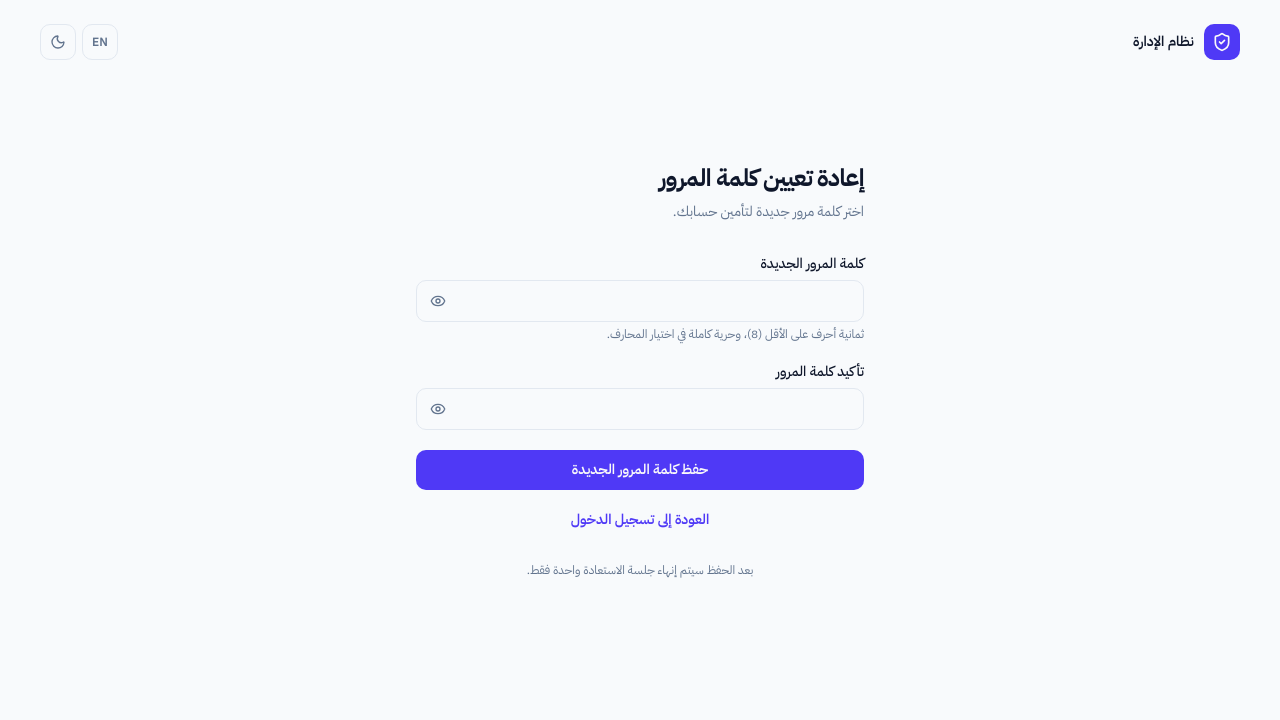
ResetPasswordPage › rejects a confirmation that does not match
This screenshot has width=1280, height=720.
In the password field labelled "كلمة المرور الجديدة": (640, 301) [416,280,864,322], type "a-brand-new-pass"
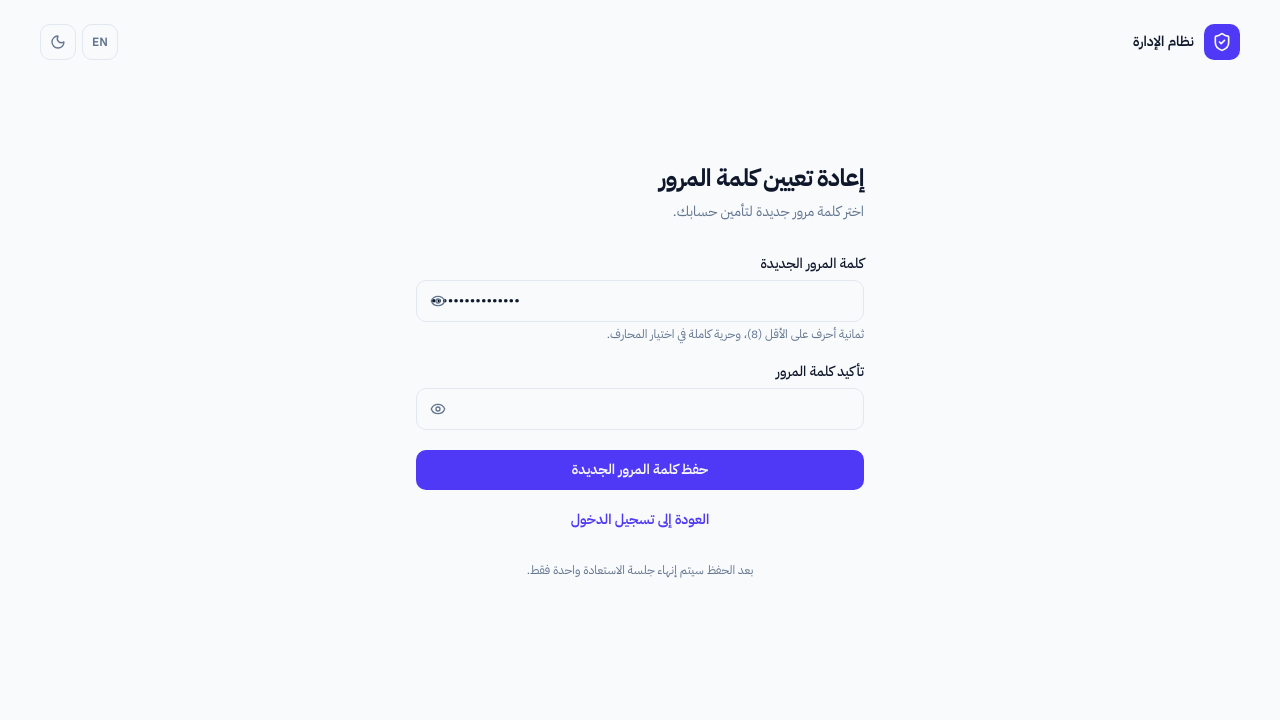
In the password field labelled "تأكيد كلمة المرور": (640, 409) [416,388,864,430], type "a-brand-new-pasz"
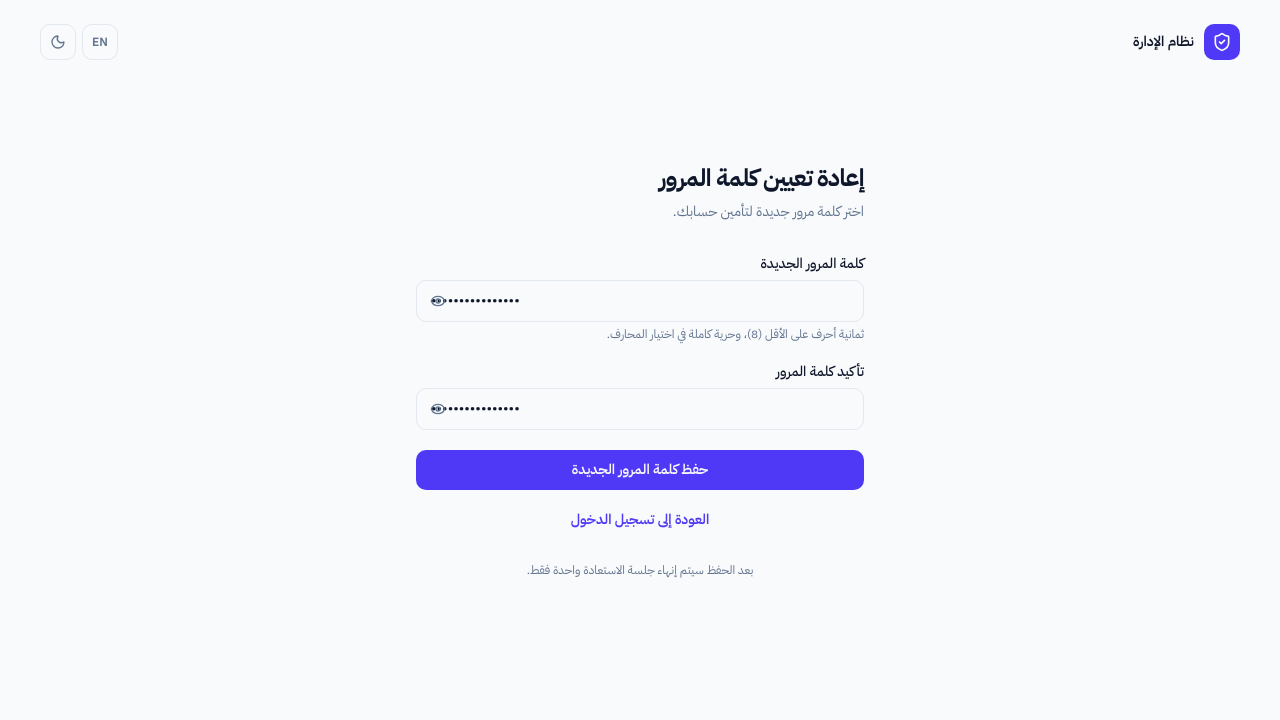
Click the button "حفظ كلمة المرور الجديدة": (640, 470) [416,450,864,490]
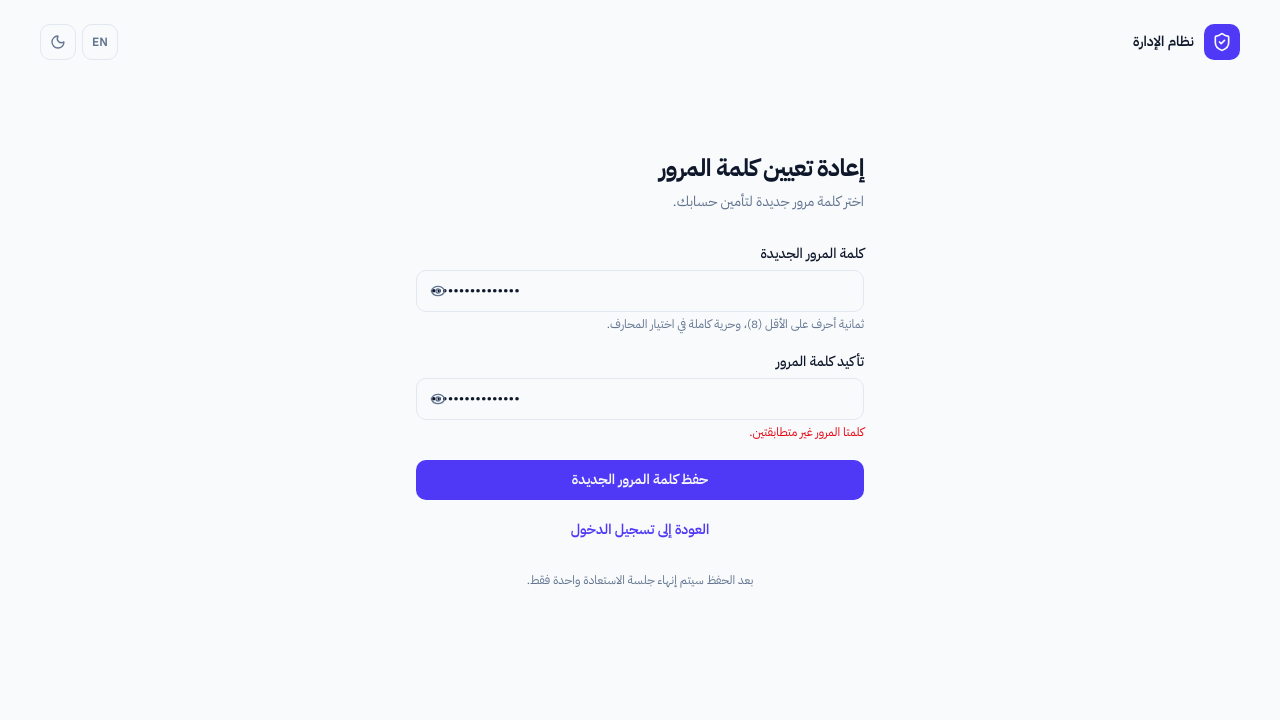
Now the text "كلمتا المرور غير متطابقتين." is shown, box [749,423,864,441]
